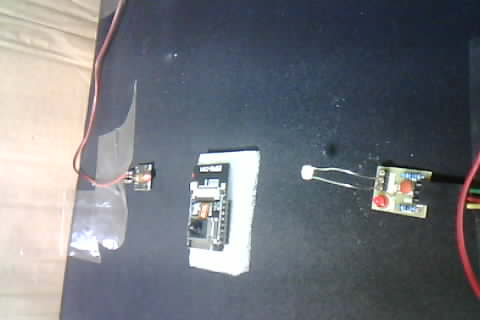esp32: (183, 148, 254, 269)
